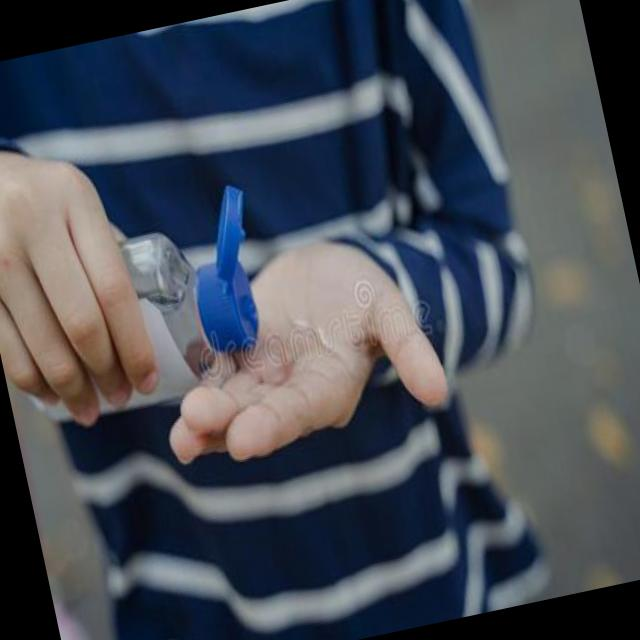sanitizer: (88, 188, 274, 404)
